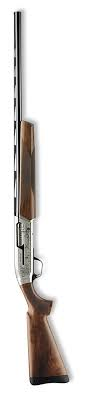gun: (8, 7, 72, 387)
